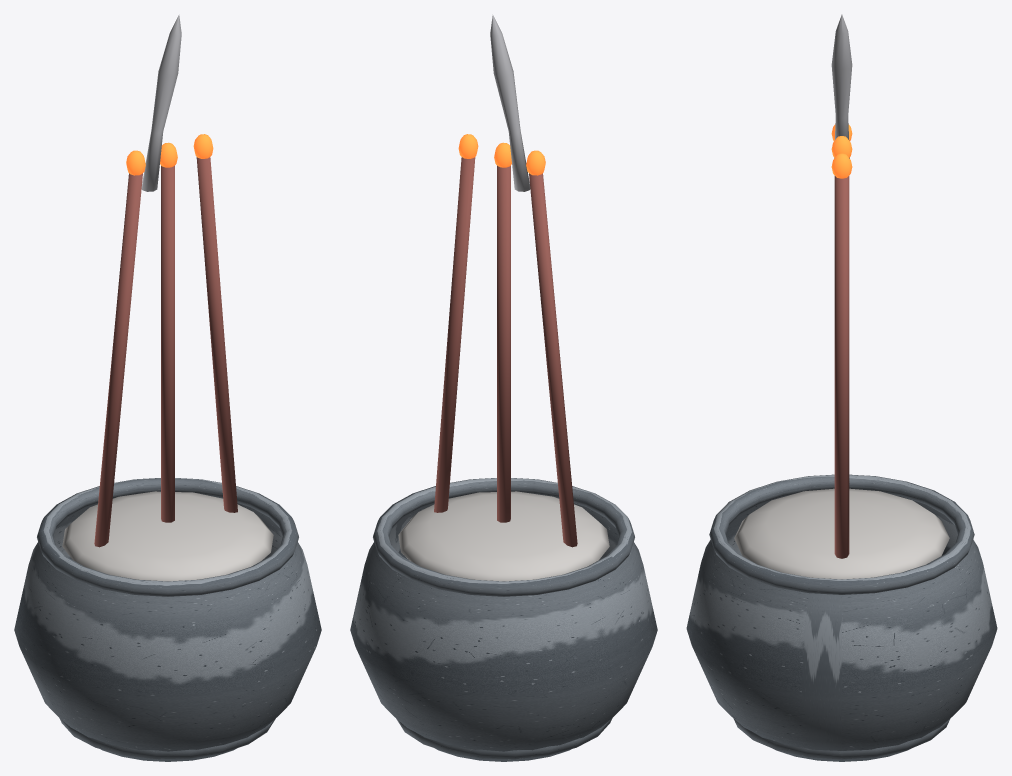
File: bat-nhang.glb
The picture shows the model from 3 angles, left to right: view 1: azimuth 30°, elevation 25°; view 2: azimuth 150°, elevation 25°; view 3: azimuth 270°, elevation 25°; orthographic projection.
Parts seen in each view (by area): view 1: bat; view 2: bat; view 3: bat.
Boxes of the visible parts, left/top/right/bottom form: bat: left=14, top=14, right=321, bottom=761; bat: left=350, top=14, right=657, bottom=761; bat: left=686, top=14, right=997, bottom=761.
Bounding box in the file's own units: 0.15 × 0.38 × 0.15.
5 materials, 1 textured.
